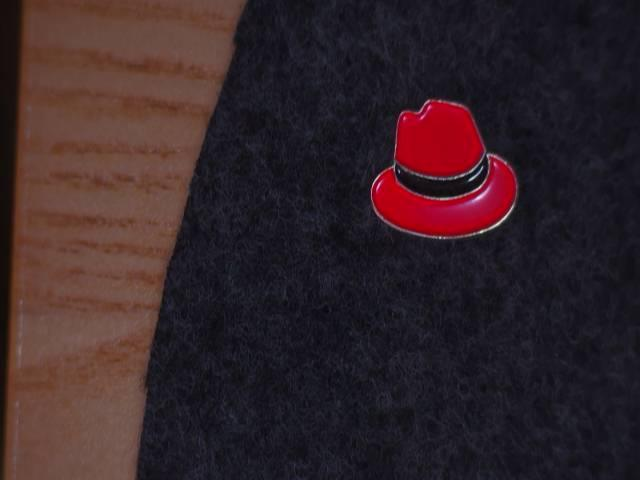Red-Hat: (351, 87, 538, 259)
